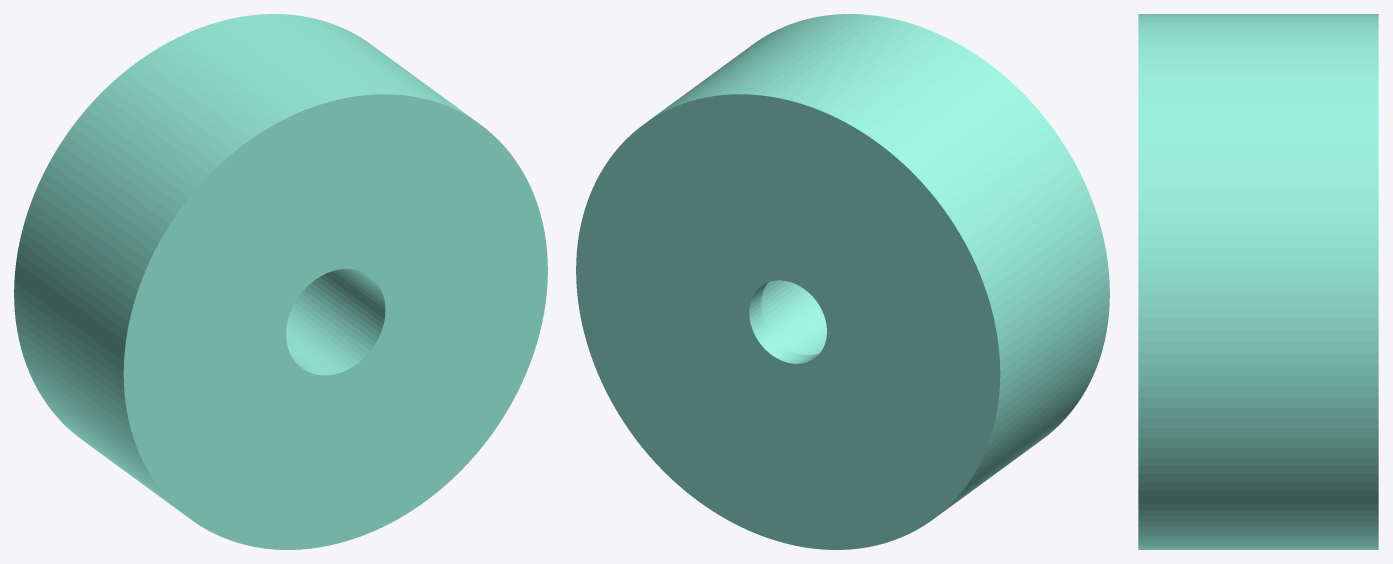
Rendered from Lar-HEC-SideA.glb.
3 views of the same model, side by side, from view 1: azimuth 30°, elevation 25°; view 2: azimuth 150°, elevation 25°; view 3: azimuth 270°, elevation 25° (orthographic). The views are drawn at different scales.
Visible parts, largest first — view 1: null; view 2: null; view 3: null.
Boxes of the visible parts, bbox=[...] form: null: bbox=[14, 14, 547, 549]; null: bbox=[576, 14, 1109, 549]; null: bbox=[1138, 14, 1378, 549].
Size of the model in its own units: 4.06 by 4.06 by 1.82.
